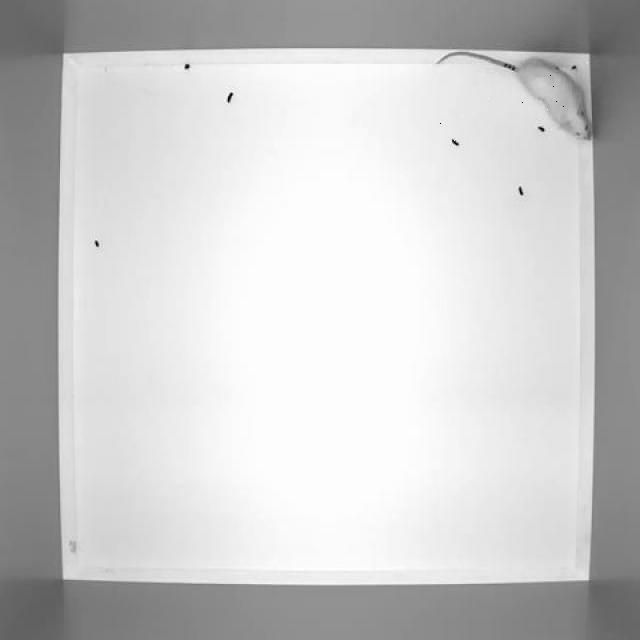rat: (436, 51, 593, 149)
